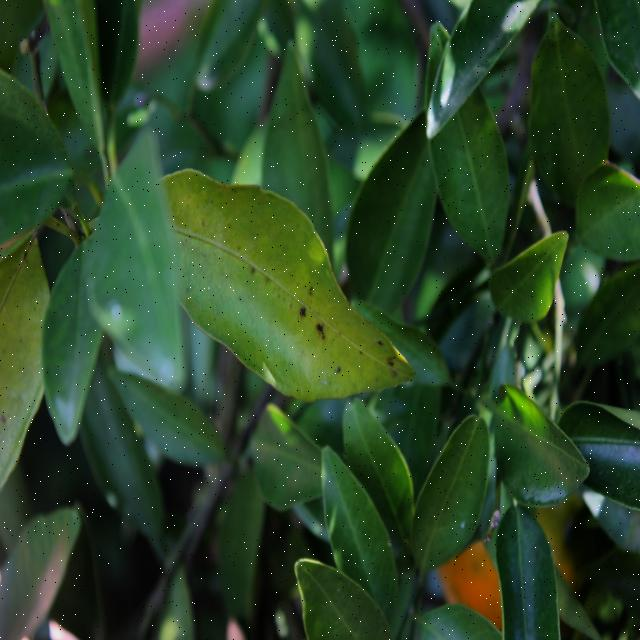blackspot: (208, 223, 407, 404)
